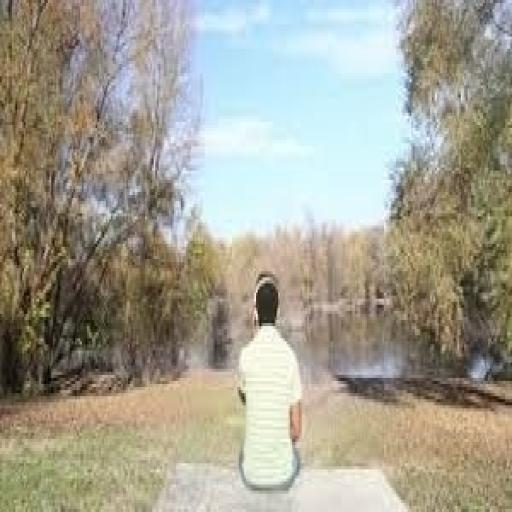listening_to_music: (234, 271, 305, 497)
